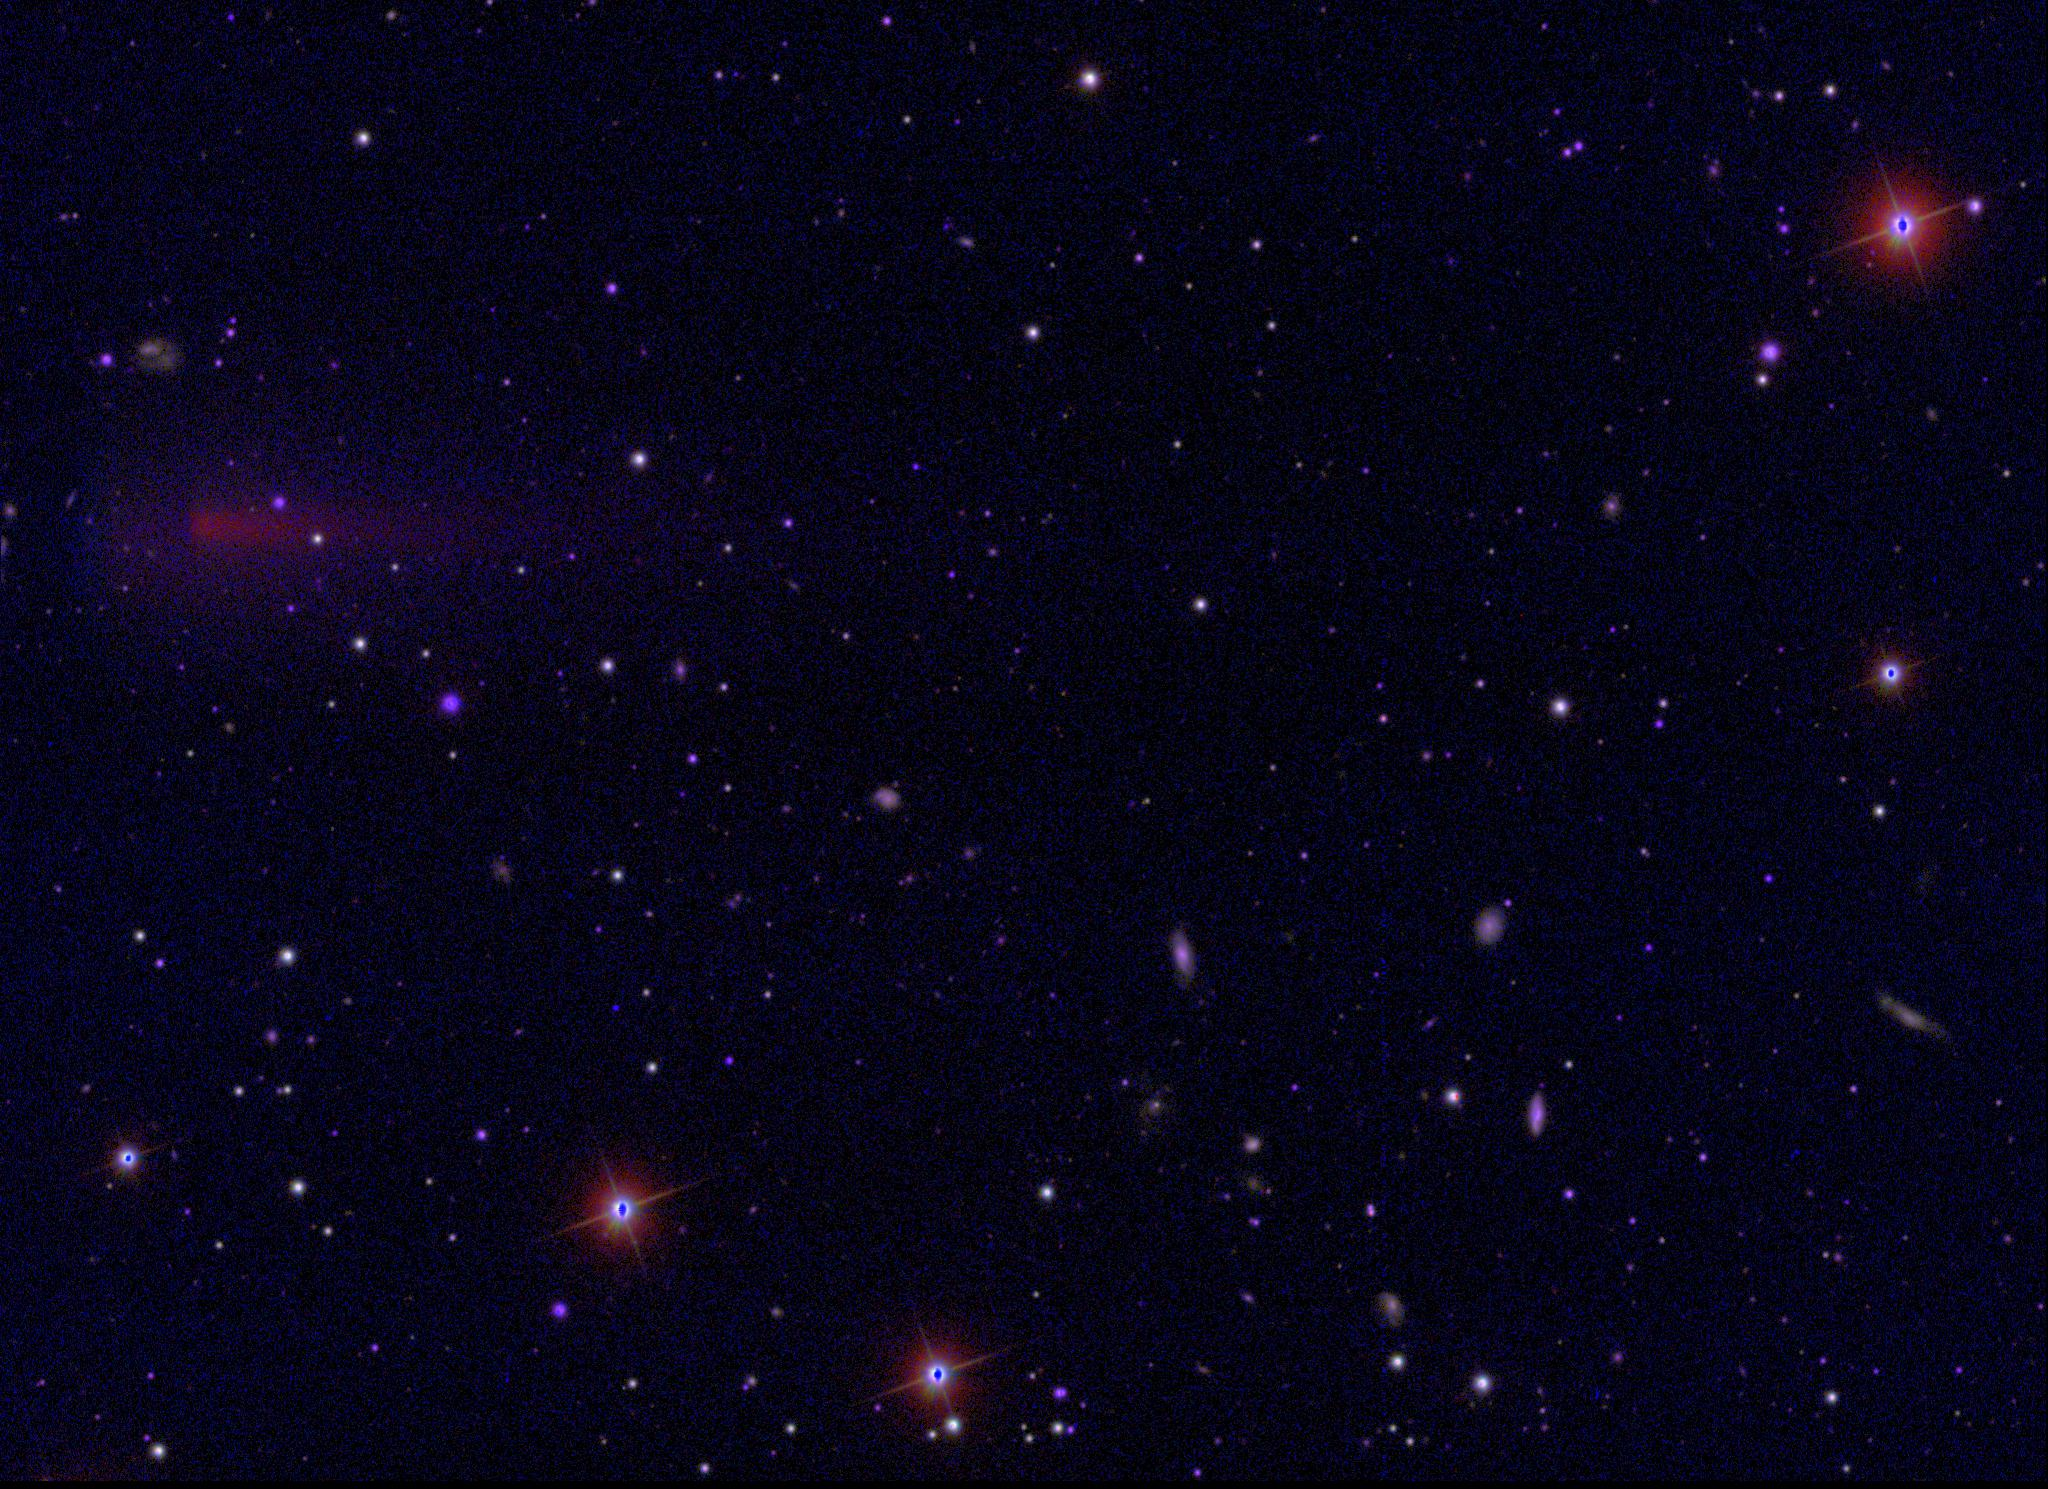L: (607, 1002, 622, 1017)
